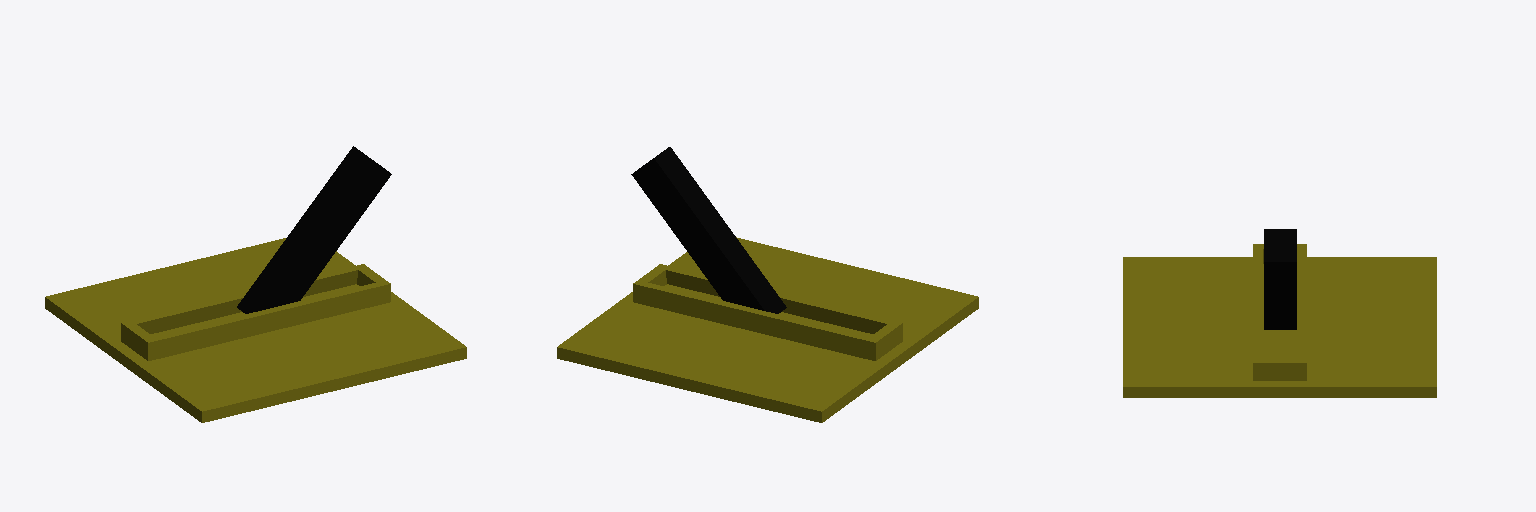
Rendered from Lever.obj.
3 views of the same model, side by side, from view 1: azimuth 30°, elevation 25°; view 2: azimuth 150°, elevation 25°; view 3: azimuth 270°, elevation 25° (orthographic).
Visible parts, largest first — view 1: pCube7; view 2: pCube7; view 3: pCube7.
Part boxes in pixels (bbox=[...]): pCube7: bbox=[45, 146, 466, 422]; pCube7: bbox=[557, 147, 978, 422]; pCube7: bbox=[1123, 229, 1436, 397].
Size of the model in its own units: 1.77 by 0.9951 by 1.81.